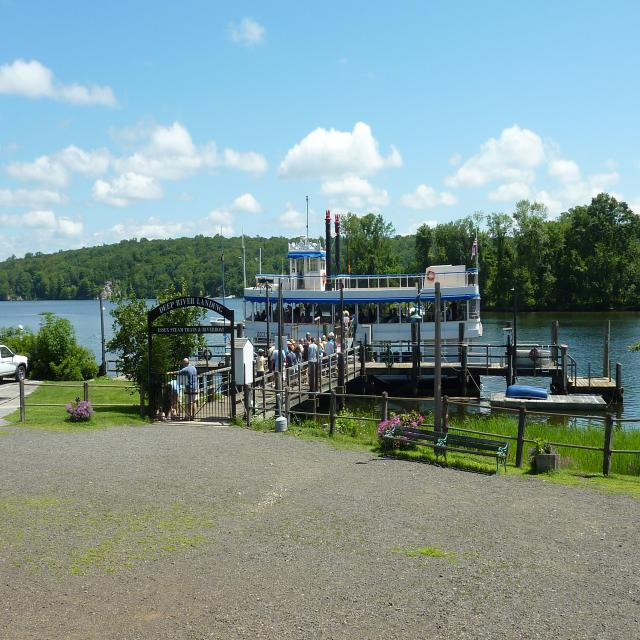body: (248, 298, 480, 324), (165, 357, 200, 422), (286, 331, 341, 353), (160, 379, 183, 420), (272, 349, 287, 391), (286, 344, 298, 392), (323, 335, 335, 380), (256, 350, 266, 393), (155, 405, 179, 422), (268, 342, 276, 388), (302, 341, 310, 385), (295, 345, 303, 387), (307, 336, 318, 361), (256, 348, 266, 375), (343, 324, 353, 349), (320, 334, 328, 350), (297, 337, 305, 353), (318, 342, 325, 358), (319, 336, 324, 350)
